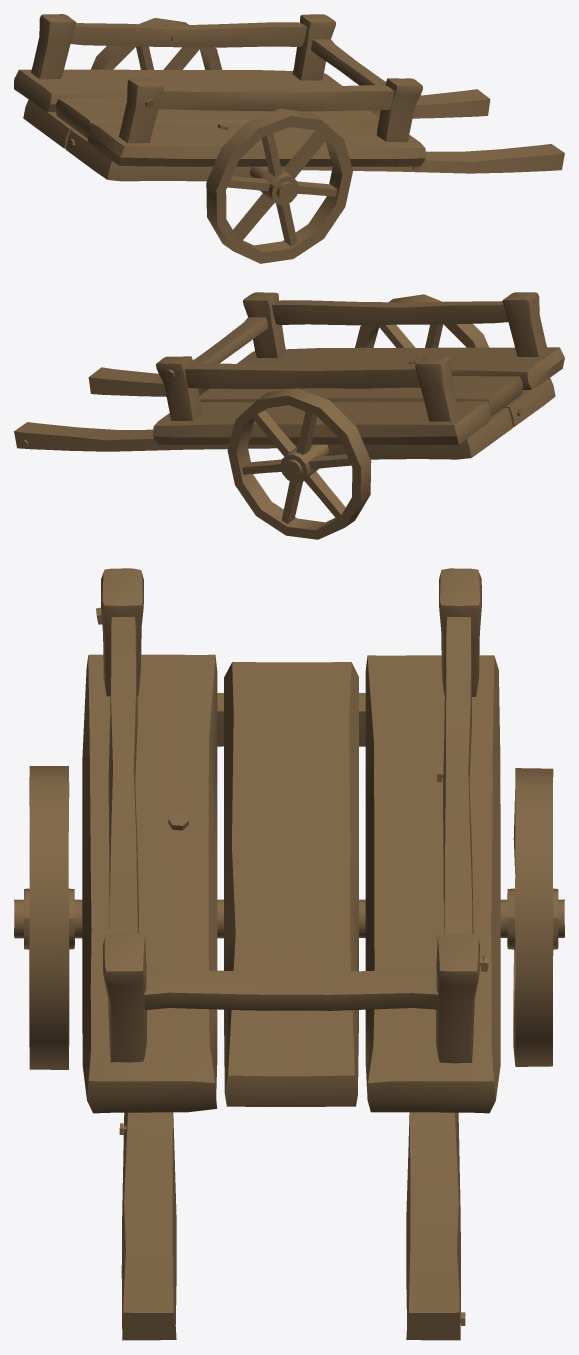
3 views of the same model, one above another, from view 1: azimuth 30°, elevation 25°; view 2: azimuth 150°, elevation 25°; view 3: azimuth 270°, elevation 25° (orthographic). The views are drawn at different scales.
Visible parts, largest first — view 1: kefy hp.002; view 2: kefy hp.002; view 3: kefy hp.002.
Part boxes in pixels (x1,y1,x2,y2): kefy hp.002: (14,14,564,263); kefy hp.002: (14,292,564,539); kefy hp.002: (14,568,564,1340).
Bounding box in the file's own units: 178 × 71.35 × 96.34.
